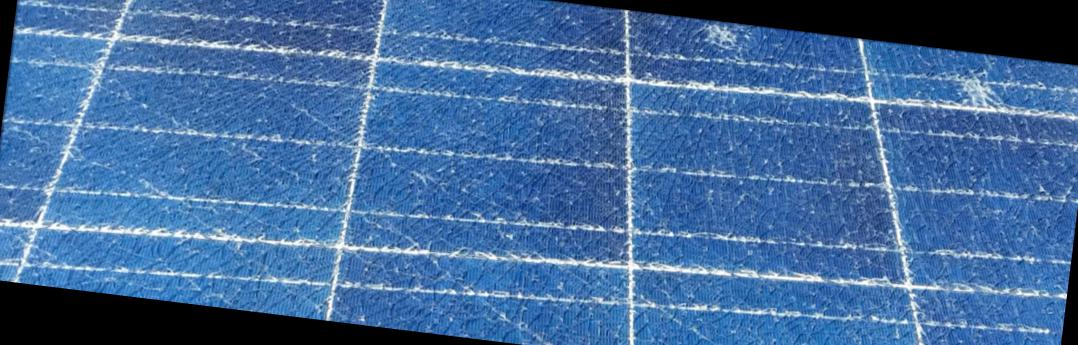Crack: (932, 70, 1020, 126), (696, 18, 753, 66)
